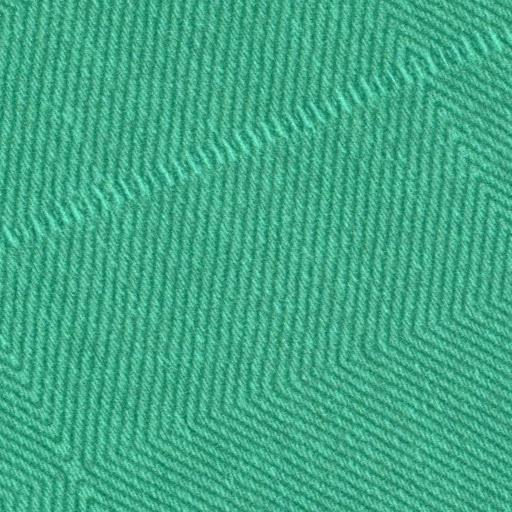slub: (2, 19, 512, 262)
